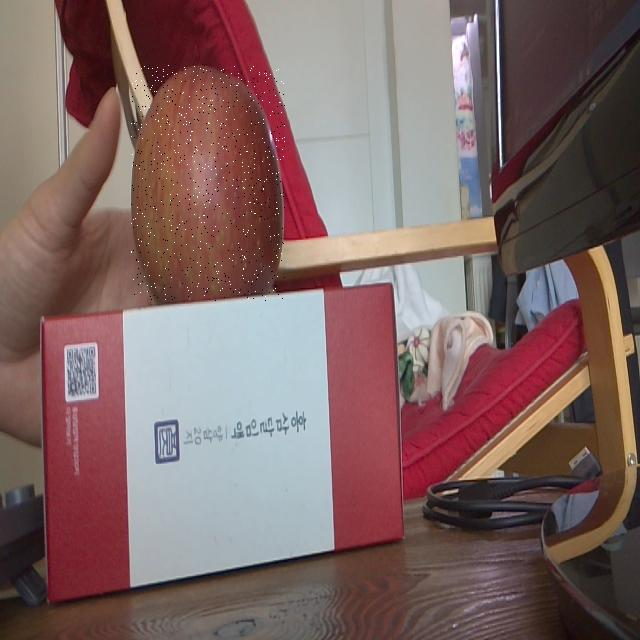apple: (131, 64, 285, 301)
